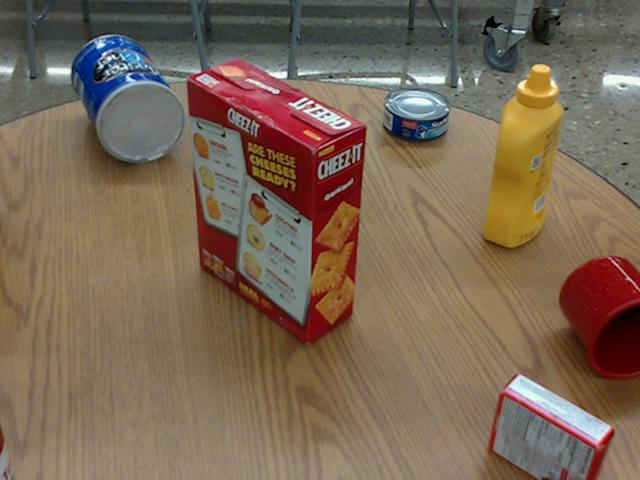cracker_box: (189, 60, 368, 342)
gelatin_box: (489, 374, 614, 479)
master_chef_can: (73, 36, 187, 163)
mug: (559, 255, 639, 378)
mustard_bottle: (483, 64, 563, 245)
potted_meat_can: (262, 86, 343, 197)
tomato_soup_can: (0, 397, 19, 479)
tuna_fish_can: (383, 86, 451, 141)
